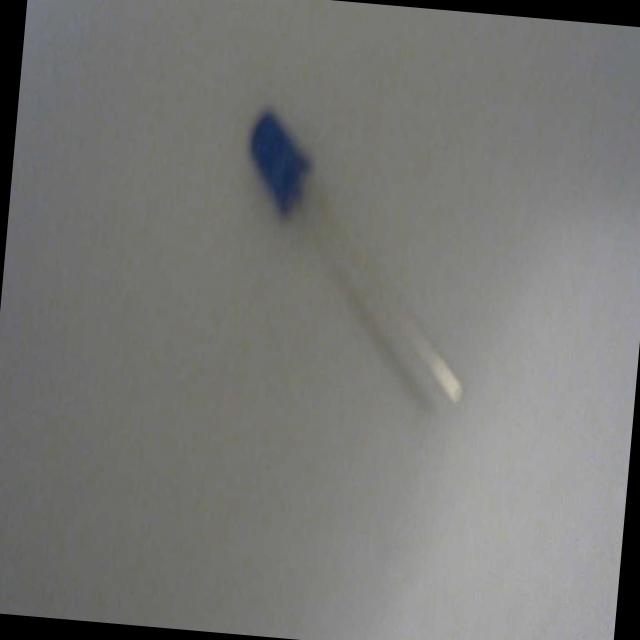blue_led: (243, 106, 315, 218)
